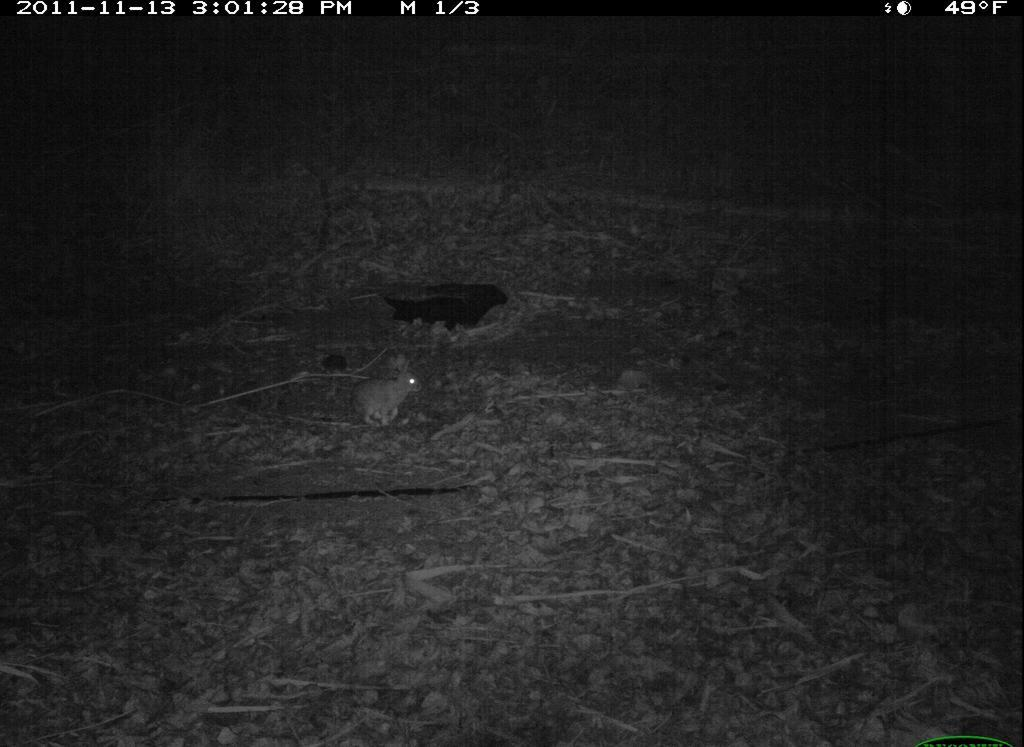rabbit: (345, 347, 431, 432)
